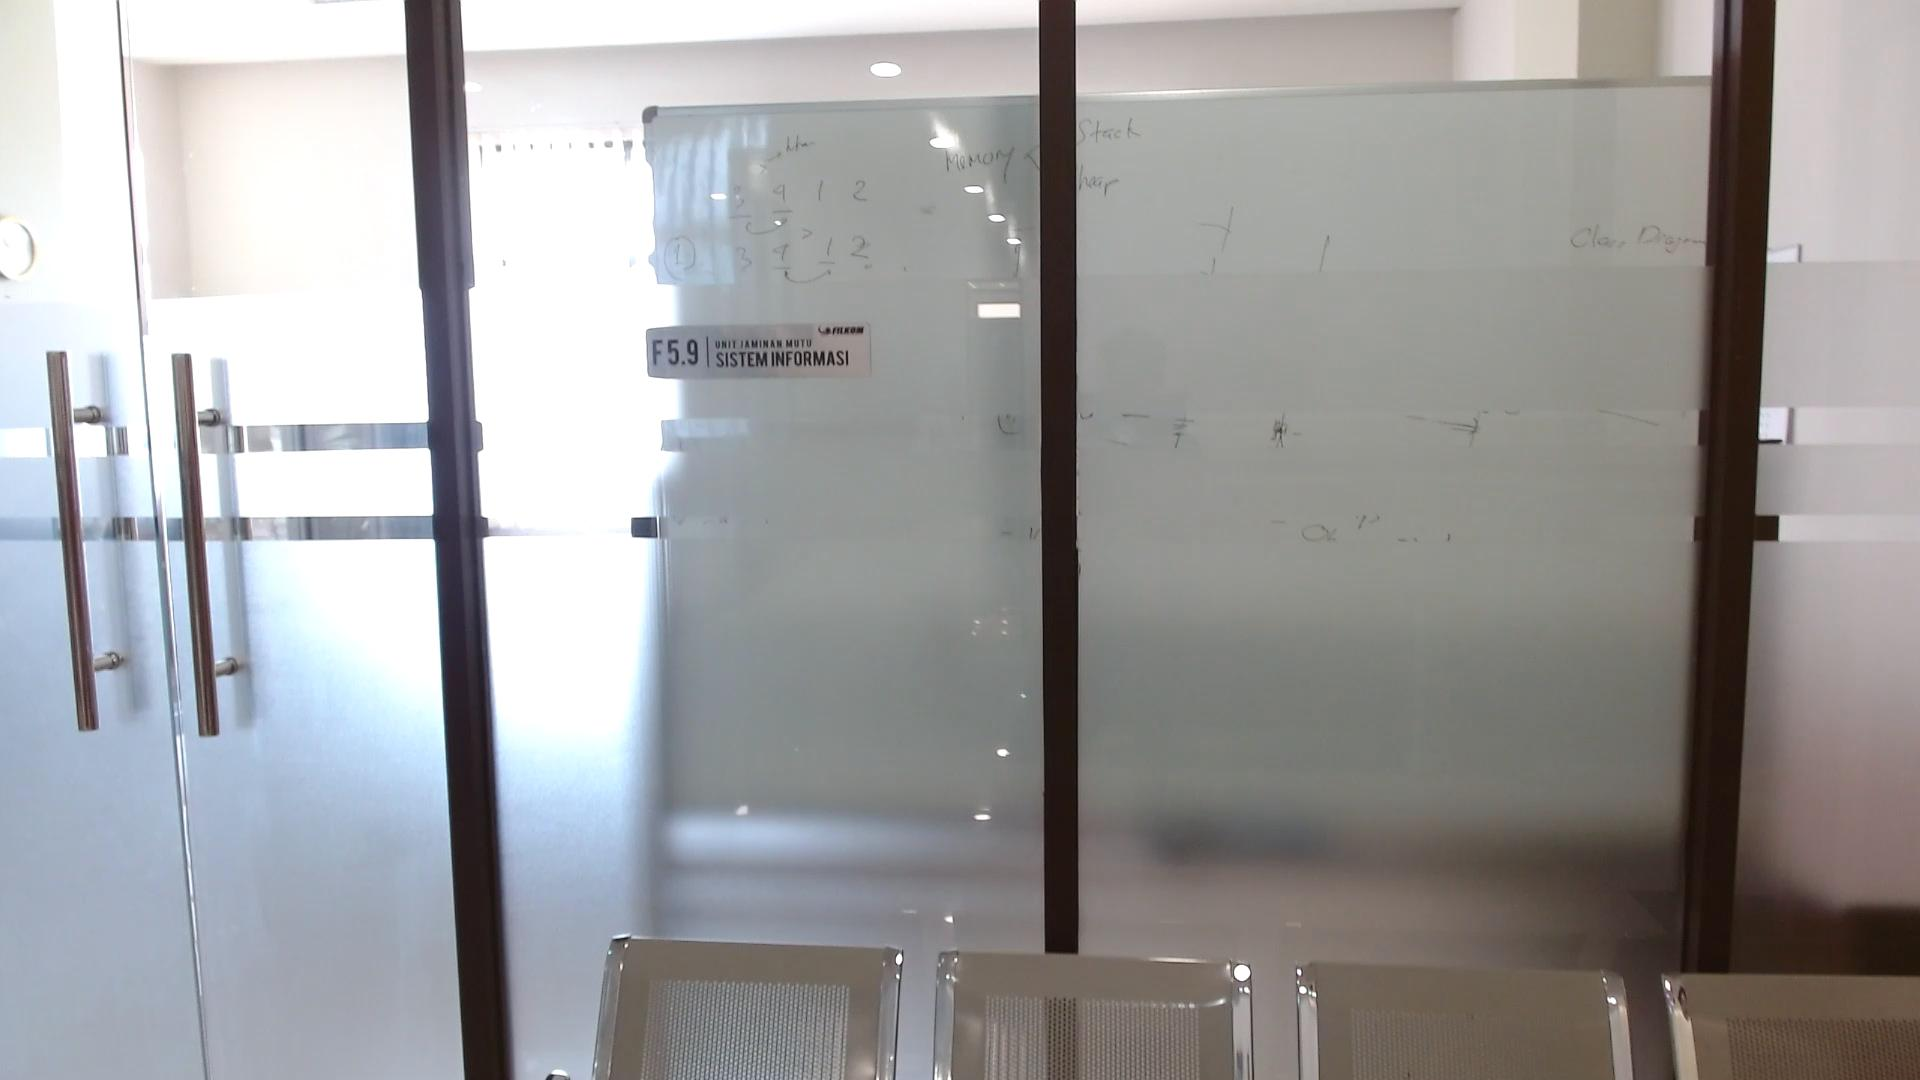plate: (646, 322, 872, 377)
